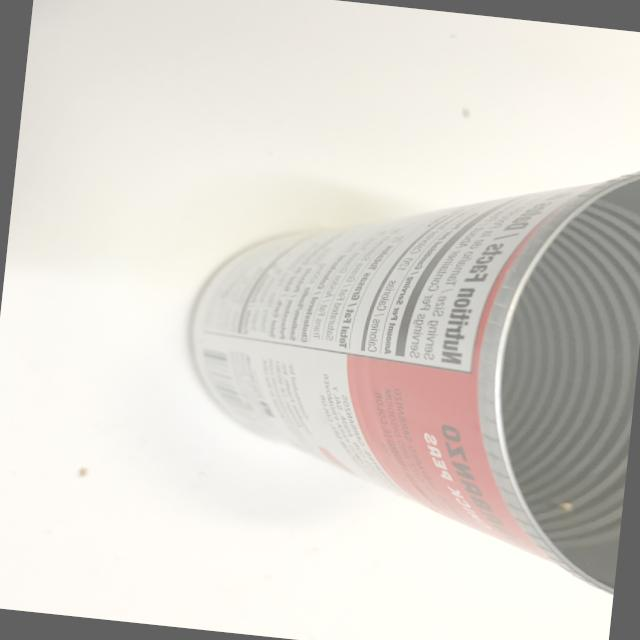Metal: (132, 104, 640, 603)
